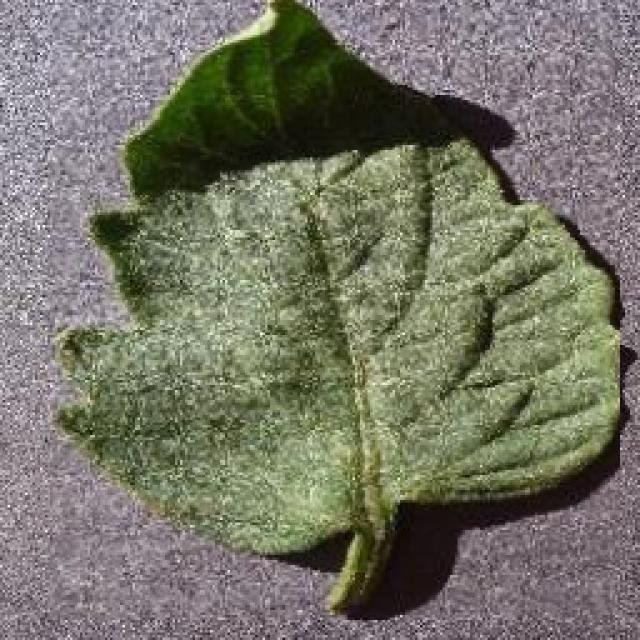Healthy: (48, 0, 620, 620)
